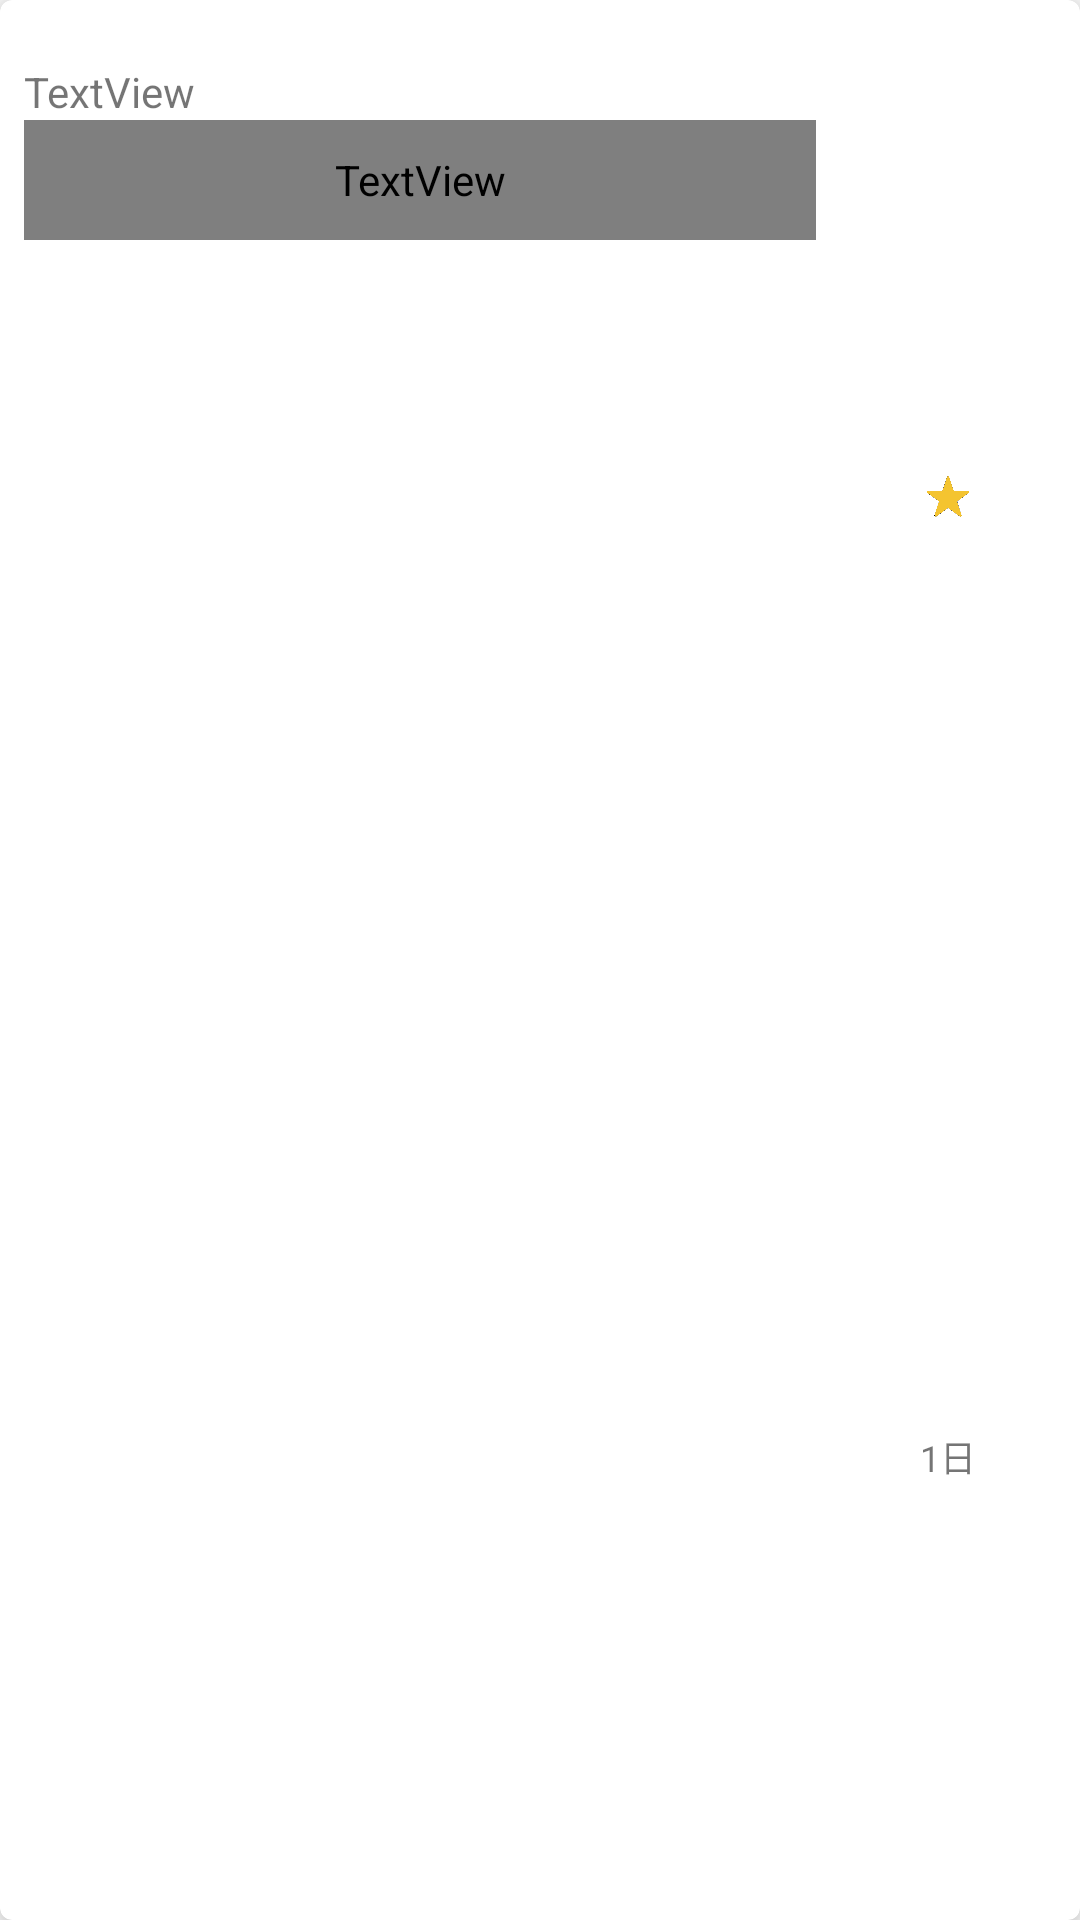

Icon bounding boxes for this 1080*1920 phone screenshot, format {"x1": x1, "y1": y1, "x2": x2, "y2": y2}:
star: {"x1": 927, "y1": 476, "x2": 969, "y2": 517}
